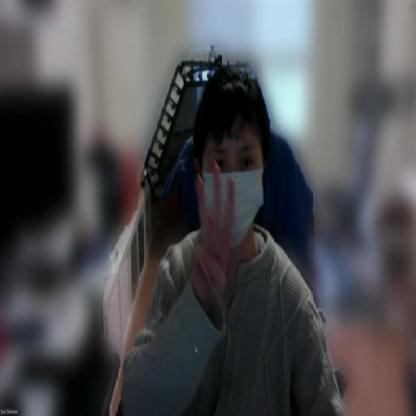six: (189, 161, 240, 315)
